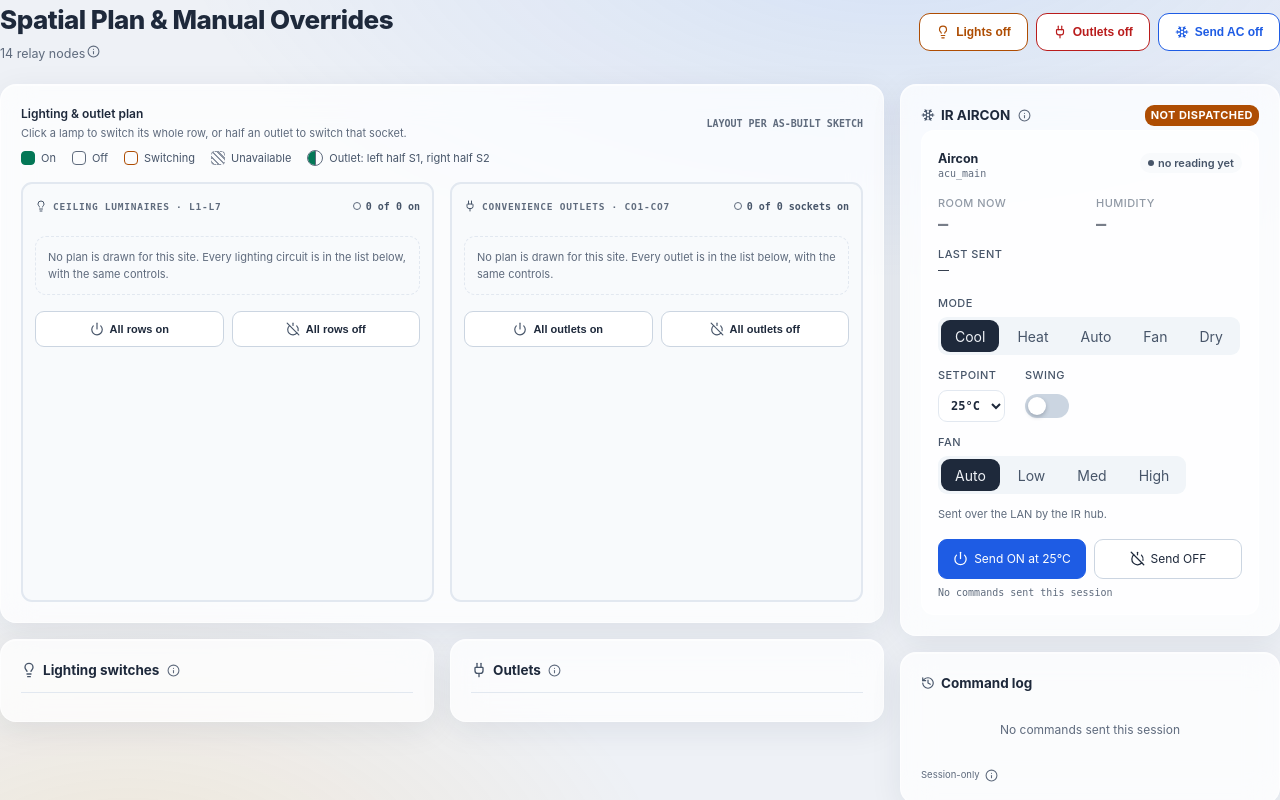
it: ACU setpoint › names the temperature in the confirmation, so nobody confirms a setpoint they cannot see
This screenshot has width=1280, height=800.
Select "28°C" in the dropdown labelled "SETPOINT" at (972, 406), box [938,390,1005,422]
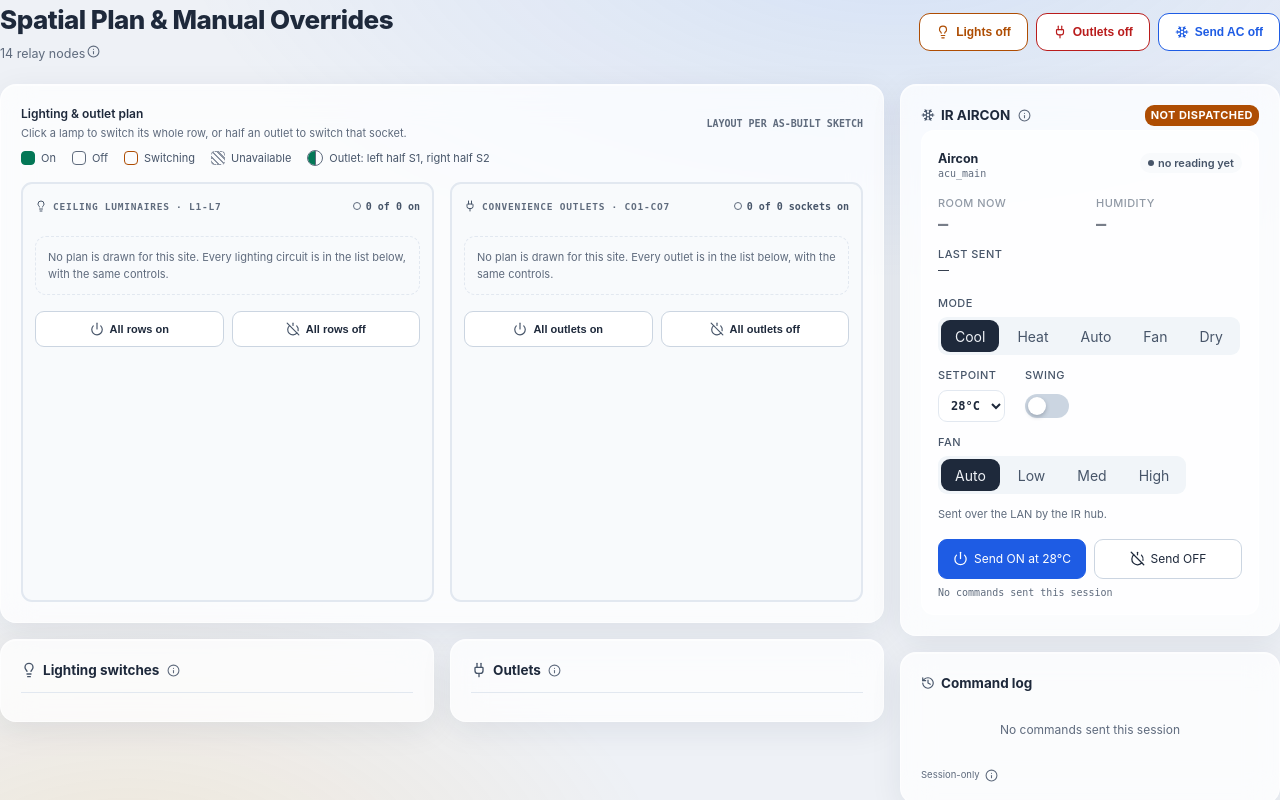
Click the button "Send ON at 28°C" at (1012, 559), box [938,539,1086,579]
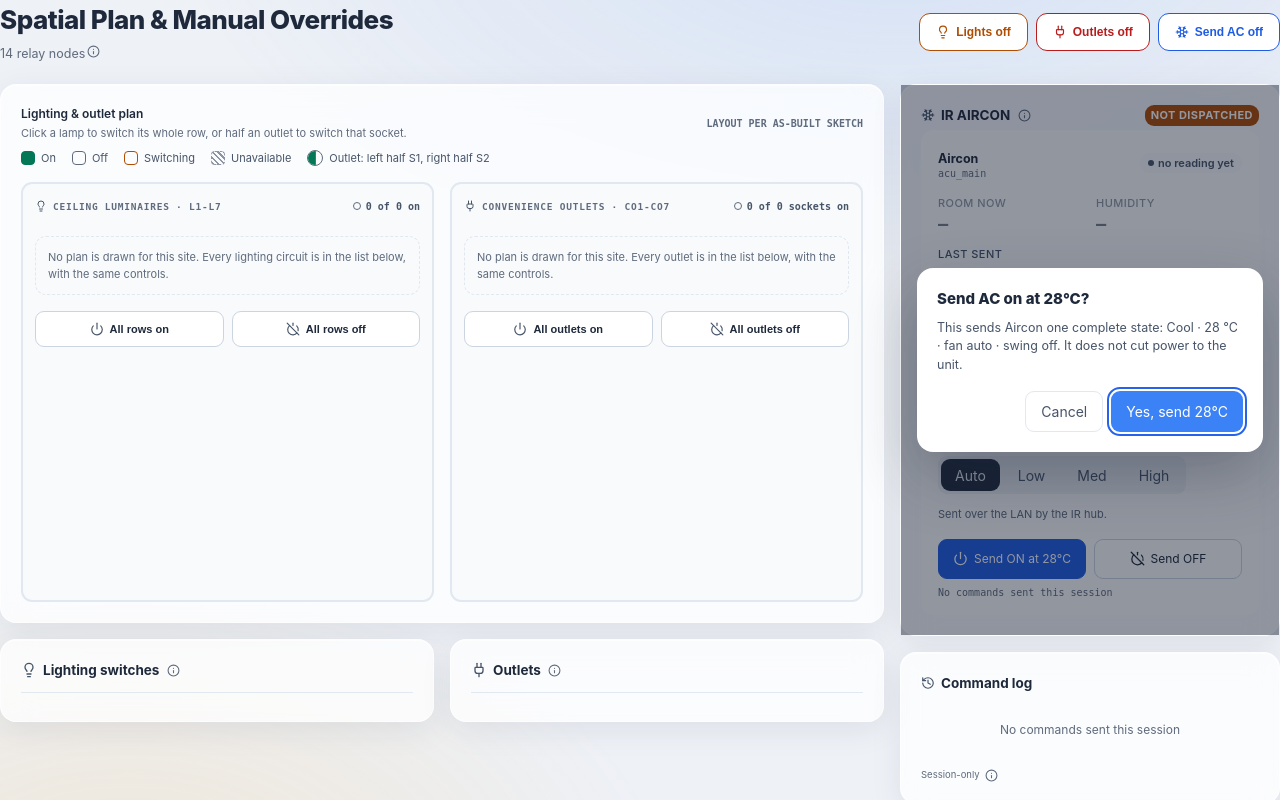
Expected: the dialog shows "28°C", [937,289,1090,308]
